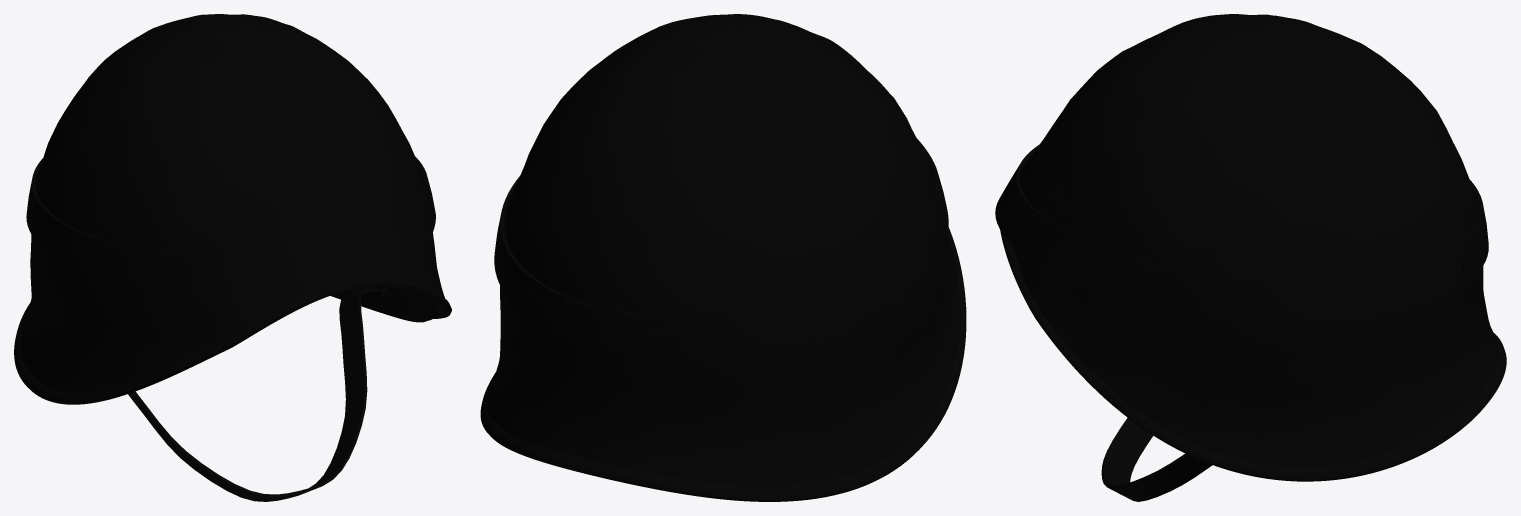
File: _test_helmet_2.glb
3 renders of one model, left to right at view 1: azimuth 30°, elevation 25°; view 2: azimuth 150°, elevation 25°; view 3: azimuth 270°, elevation 25°, orthographic. The views are drawn at different scales.
Visible parts, largest first — view 1: body; view 2: body; view 3: body.
Boxes of the visible parts, x1=… form: body: x1=14, y1=14, x2=451, y2=501; body: x1=480, y1=14, x2=966, y2=501; body: x1=995, y1=14, x2=1506, y2=501.
Bounding box in the file's own units: 0.2599 × 0.2893 × 0.2924.
Materials: 4 (4 with a texture image).
